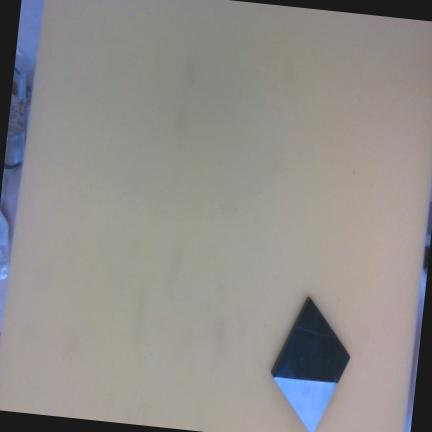tile: (256, 296, 367, 432)
